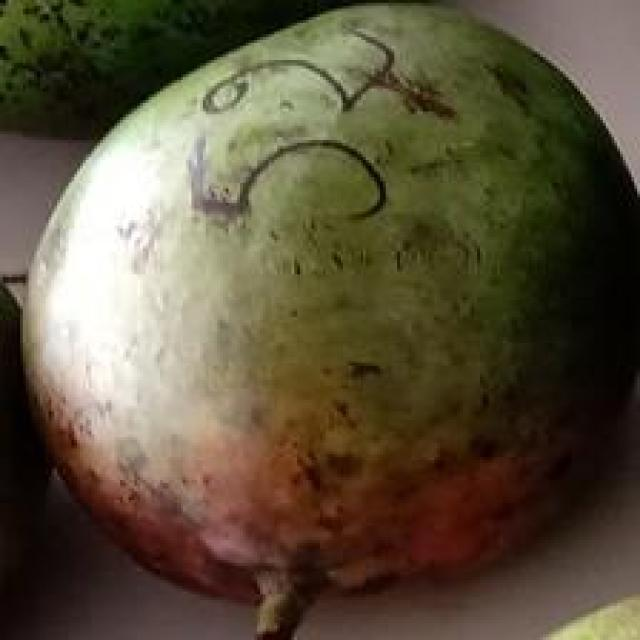Mango: (21, 16, 624, 634)
